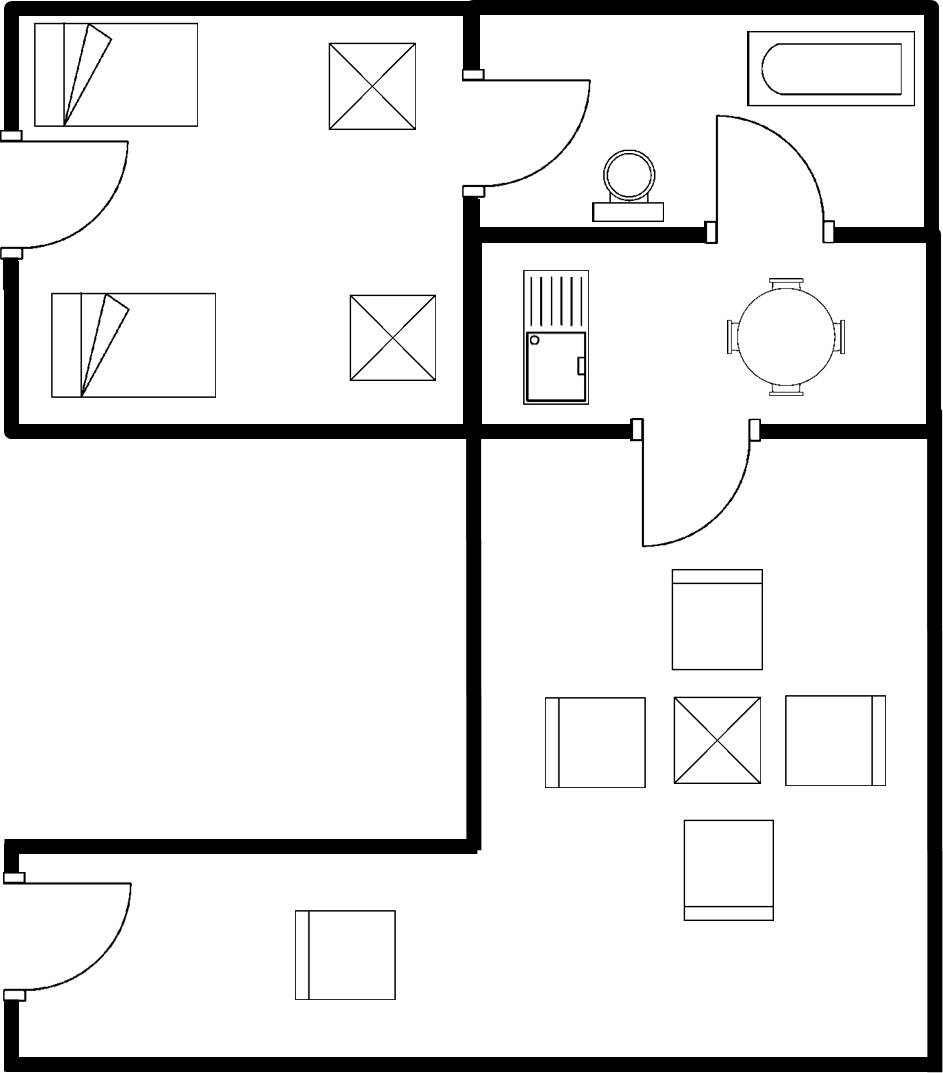bed: (43, 286, 225, 404), (28, 19, 204, 134)
coffee_table: (319, 33, 425, 141), (339, 288, 444, 391), (664, 692, 768, 793)
large_sink: (584, 145, 678, 225)
round_table: (717, 271, 853, 404)
sink: (514, 263, 594, 409)
small_sofa: (664, 562, 773, 680), (676, 814, 786, 930), (284, 903, 407, 1006), (537, 690, 653, 795), (779, 690, 893, 794)
tub: (739, 26, 921, 116)
